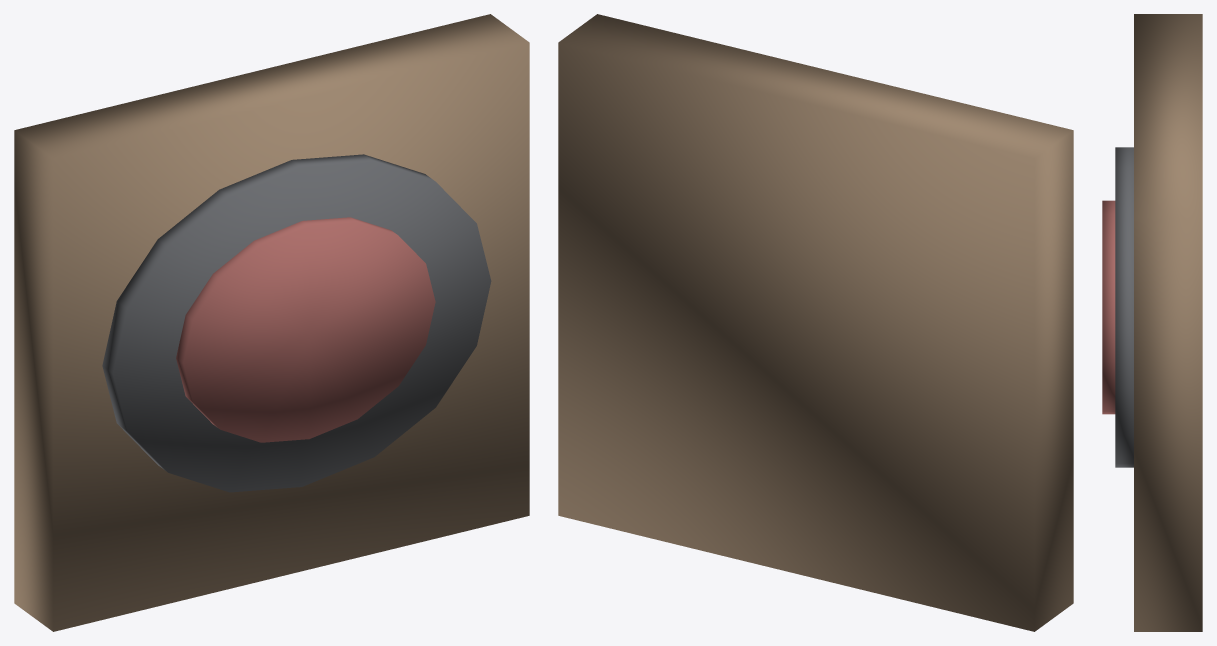
File: dartboard_cabinet__wide.glb
3 renders of one model, left to right at view 1: azimuth 30°, elevation 25°; view 2: azimuth 150°, elevation 25°; view 3: azimuth 270°, elevation 25°, orthographic. The views are drawn at different scales.
Visible parts, largest first — view 1: world; view 2: world; view 3: world.
Boxes of the visible parts, bbox=[...] form: world: bbox=[14, 14, 529, 631]; world: bbox=[558, 14, 1073, 631]; world: bbox=[1102, 14, 1202, 631].
Bounding box in the file's own units: 0.8432 × 0.8 × 0.175.
